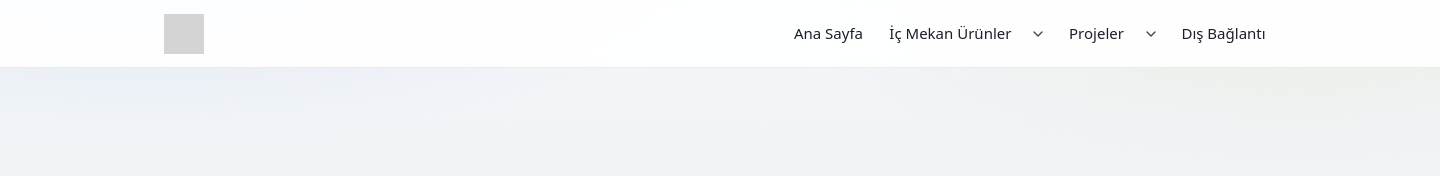
Test: SiteHeader › shows children in order and closes previous dropdown when another opens
The image size is (1440, 176).
What coordinates should you click on to do the following:
click the button "İç Mekan Ürünler"
I would click on:
 (950, 34)
Its box is [879,16,1022,52].
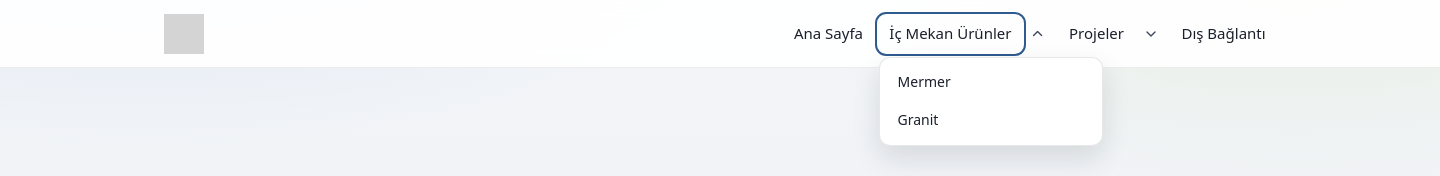
Now the links read "Mermer", "Granit", in this order, box [898,72,951,91]; [898,110,938,129]
What coordinates should you click on to do the following:
click the button named "Projeler alt menüsünü aç"
I would click on:
 (1151, 34)
Its box is [1136,19,1166,48].
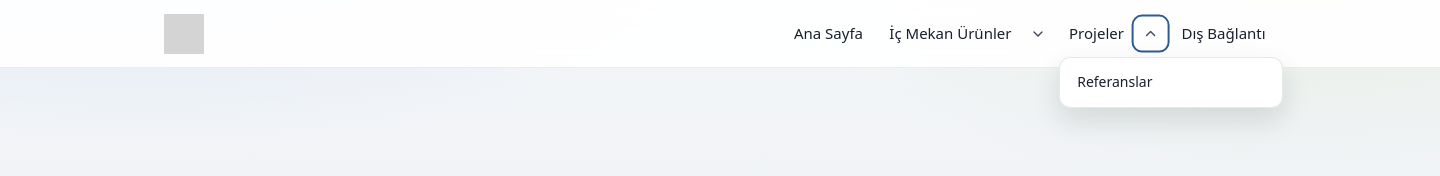
Now the link "Mermer" is gone
Now the link "Referanslar" is shown, box [1077,72,1152,91]
